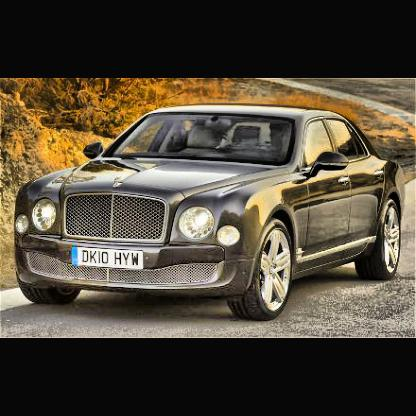Bentley Mulsanne Sedan 2011: (19, 104, 406, 322)
